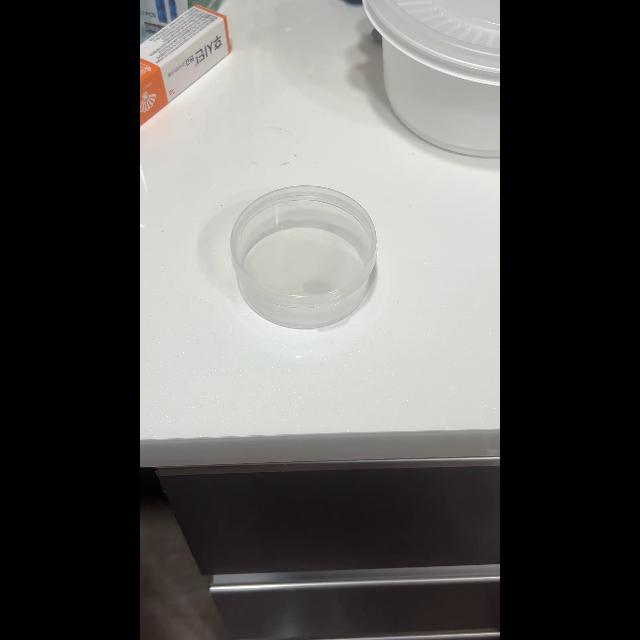clean: (229, 184, 377, 326)
